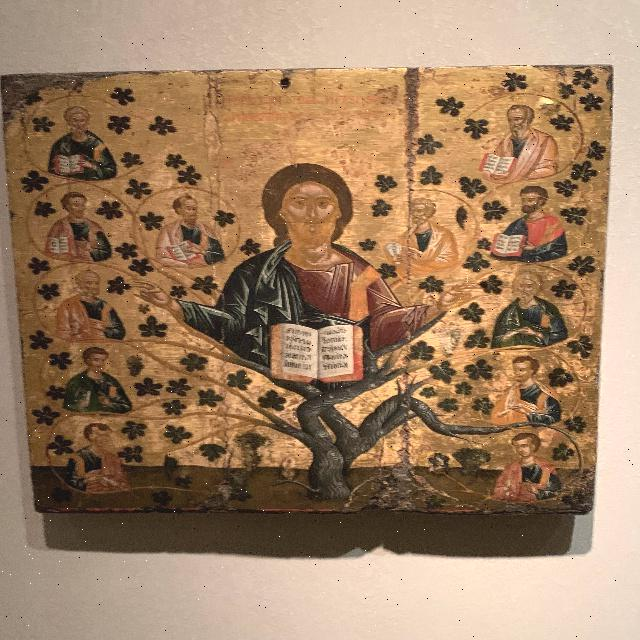apostle: (449, 344, 590, 428), (460, 262, 596, 349), (20, 96, 146, 180), (464, 95, 587, 181), (460, 424, 592, 503), (49, 410, 173, 491), (363, 185, 475, 272), (475, 184, 598, 263), (27, 178, 142, 262), (136, 184, 248, 268), (41, 339, 155, 412), (33, 264, 141, 336)
book: (271, 324, 367, 380), (167, 240, 197, 260), (497, 235, 526, 253), (56, 155, 83, 173), (46, 236, 72, 254), (390, 243, 406, 260)
christ: (152, 134, 475, 358)
hand: (125, 283, 170, 309), (434, 286, 474, 312)
